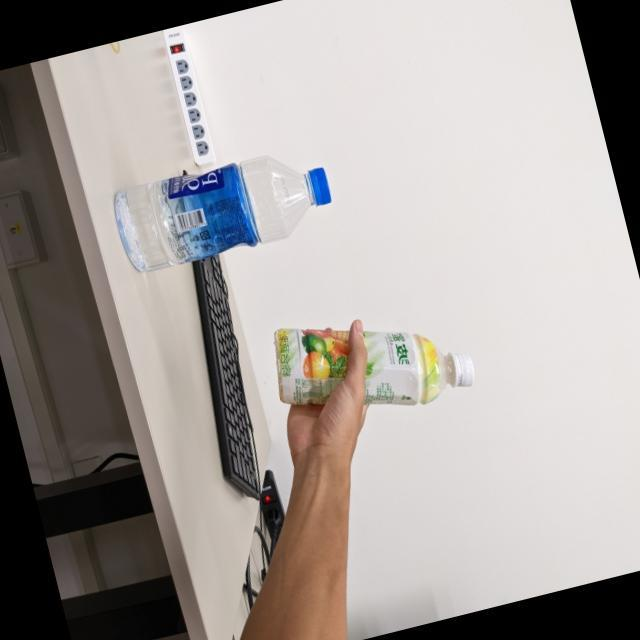good: (103, 123, 350, 288), (260, 271, 487, 448)
